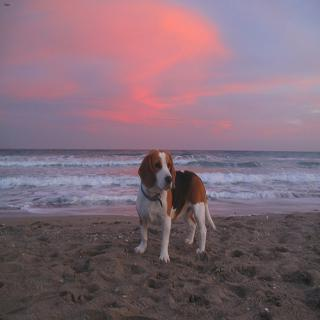dog: (137, 146, 218, 263)
